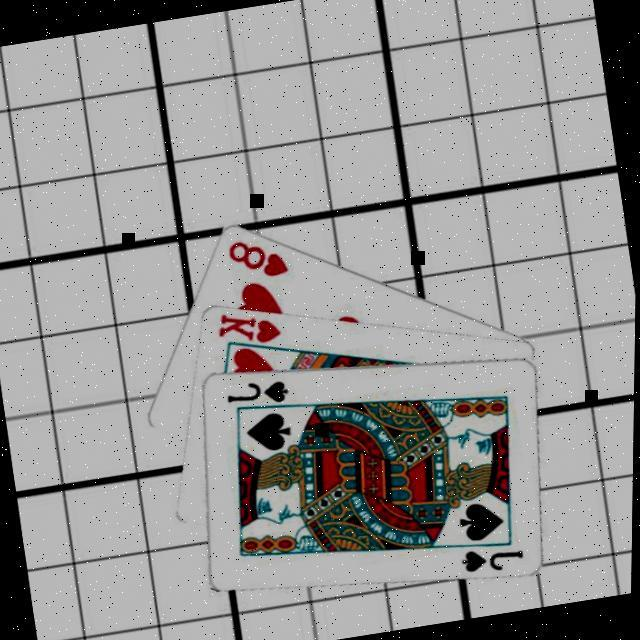8H: (222, 232, 294, 288)
JS: (222, 374, 294, 415), (458, 540, 528, 580)
KH: (211, 303, 286, 355)
